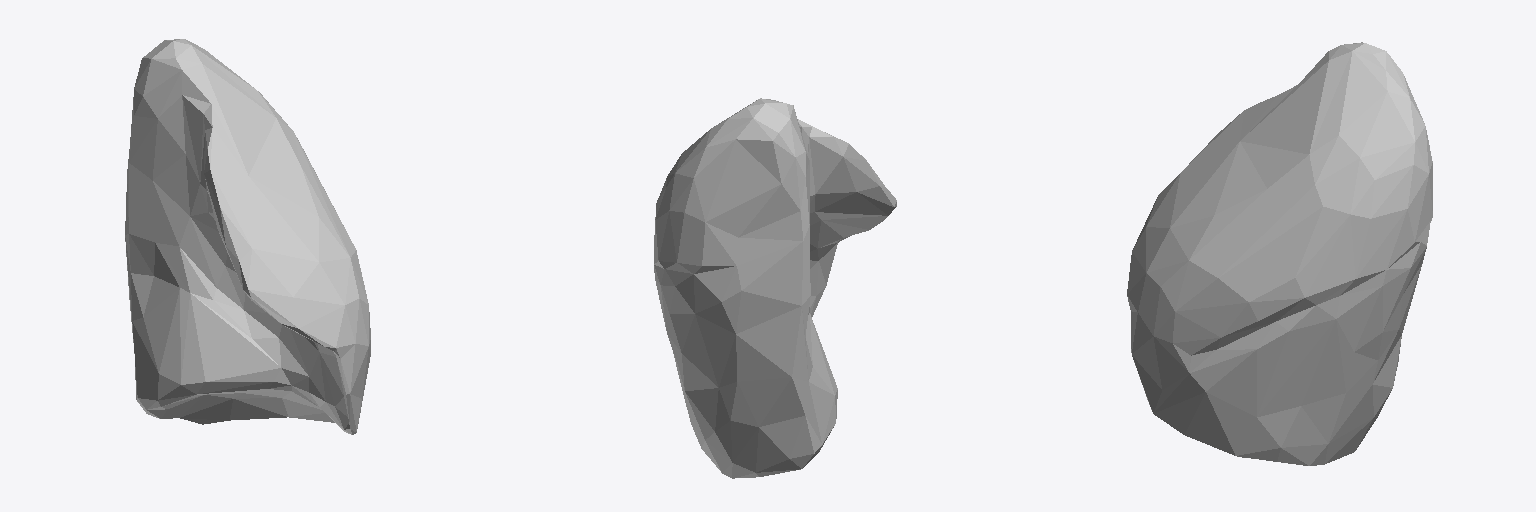
File: organs_lung_left_collision.obj
3 renders of one model, left to right at view 1: azimuth 30°, elevation 25°; view 2: azimuth 150°, elevation 25°; view 3: azimuth 270°, elevation 25°, orthographic.
Visible parts, largest first — view 1: Lung_left_polySurface1.002; view 2: Lung_left_polySurface1.002; view 3: Lung_left_polySurface1.002.
Part boxes in pixels (x1,y1,x2,y2): Lung_left_polySurface1.002: (125, 39, 370, 434); Lung_left_polySurface1.002: (654, 98, 896, 478); Lung_left_polySurface1.002: (1127, 42, 1432, 465).
Bounding box in the file's own units: 12.16 × 26.05 × 18.67.